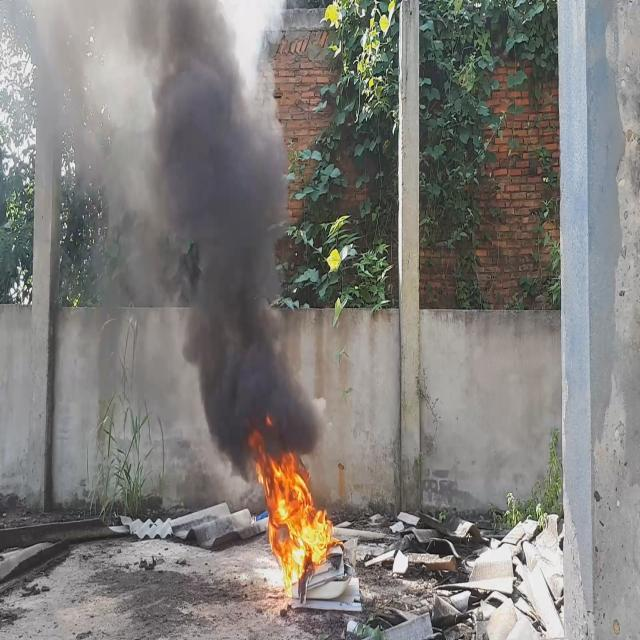Fire: (248, 428, 336, 598)
Smoke: (0, 0, 328, 488)
